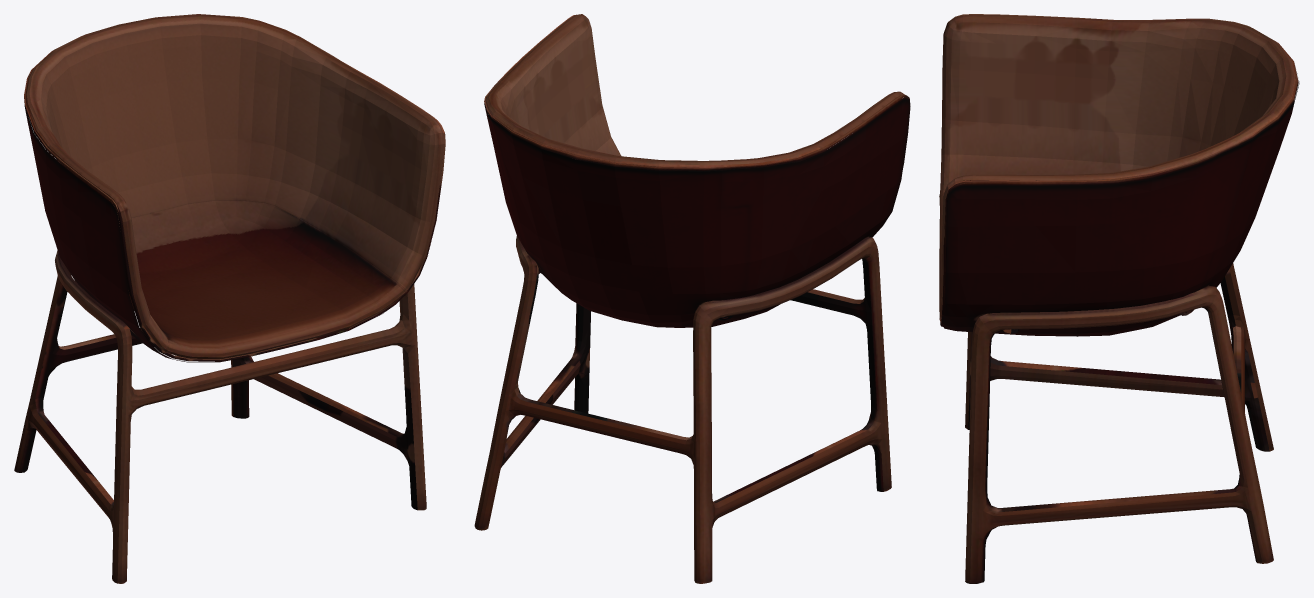
Rendered from edited_mesh.glb.
3 views of the same model, side by side, from view 1: azimuth 30°, elevation 25°; view 2: azimuth 150°, elevation 25°; view 3: azimuth 270°, elevation 25° (orthographic). The views are drawn at different scales.
Parts seen in each view (by area): view 1: normalized_model.obj; view 2: normalized_model.obj; view 3: normalized_model.obj.
Part boxes in pixels (x1,y1,x2,y2): normalized_model.obj: (14, 14, 445, 583); normalized_model.obj: (474, 14, 910, 583); normalized_model.obj: (939, 14, 1299, 583).
Size of the model in its own units: 1.18 by 1.41 by 1.07.
1 material, 1 textured.
